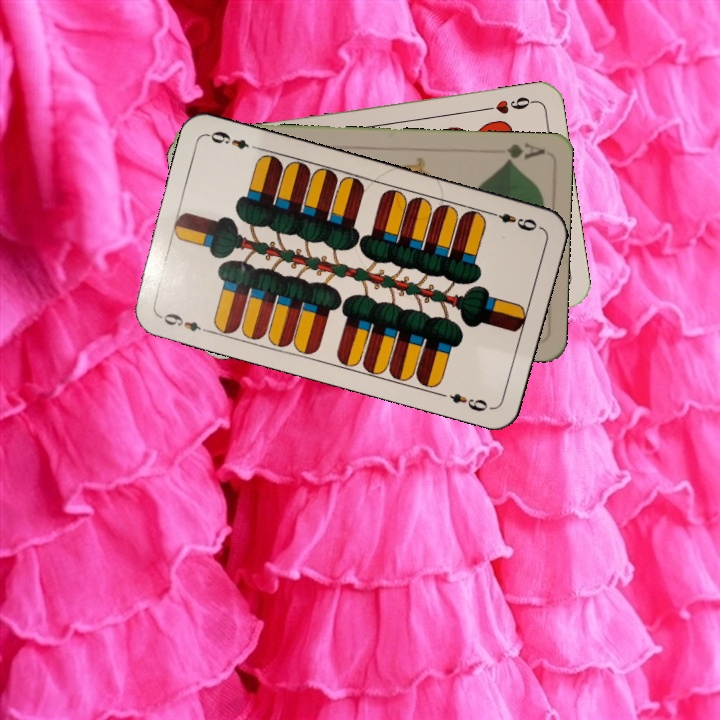E9: (155, 309, 213, 336), (485, 207, 540, 234)
GA: (501, 139, 546, 166)
H9: (478, 93, 537, 117)
